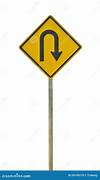back: (18, 15, 81, 78)
